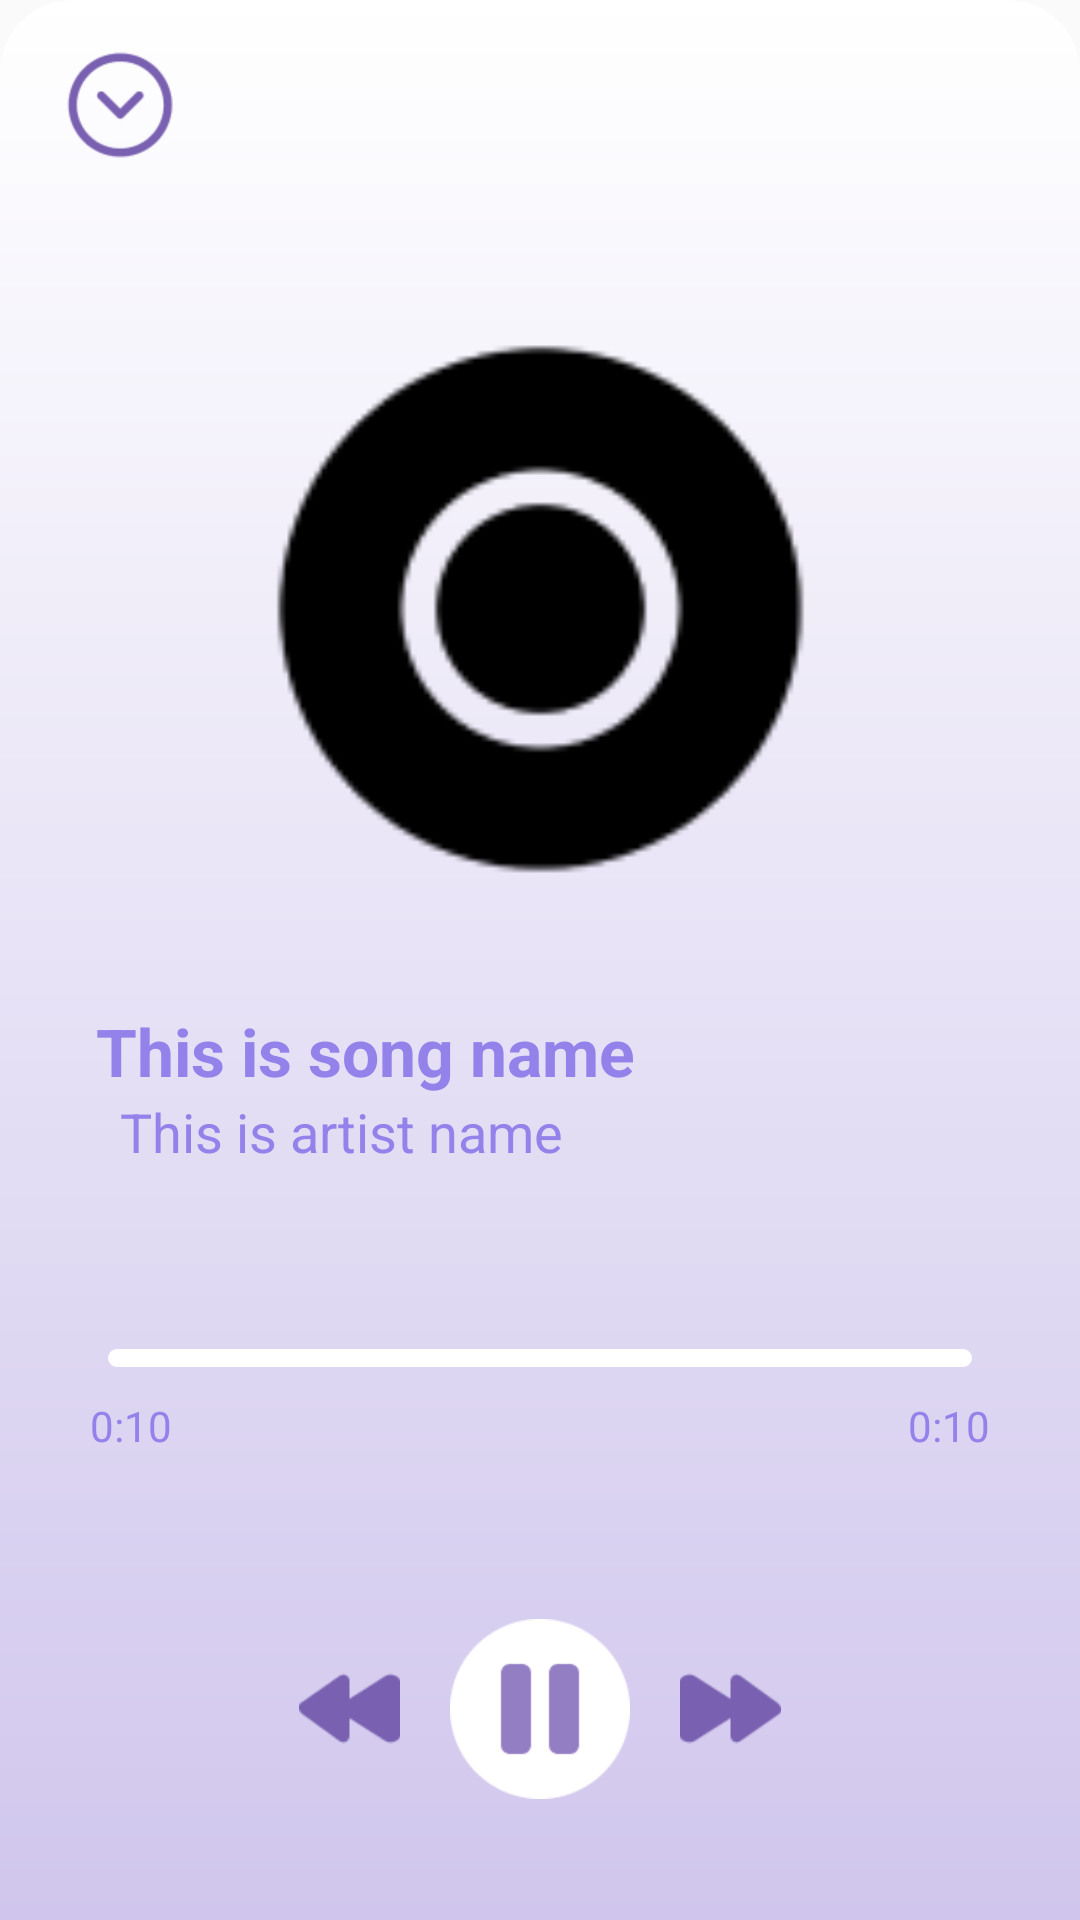

Point at icon controls on the screen. Image size 1080w x 1920h, points as (x,y).
next song: (730,1708)
pause: (540,1709)
prev song: (349,1708)
